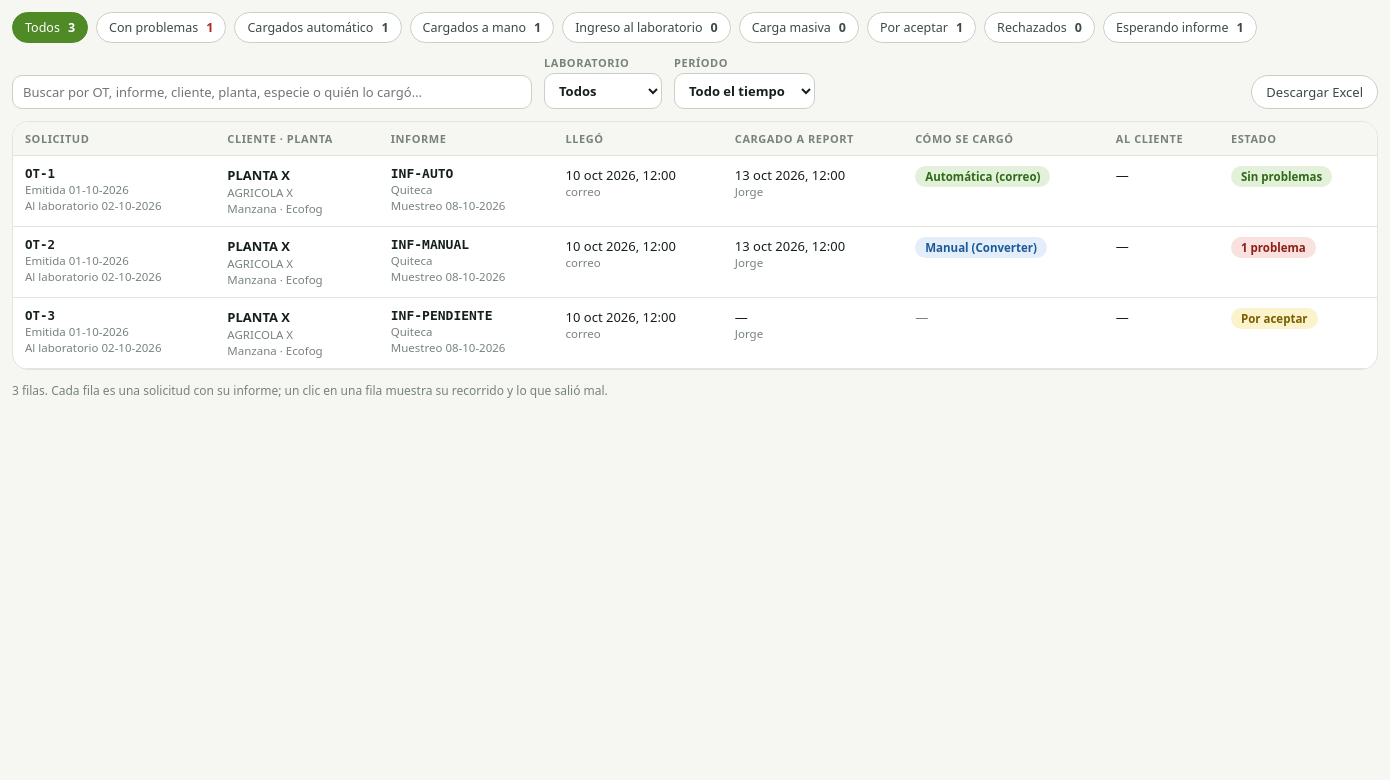
Test: RegistroInformes › un clic en la fila muestra lo que salió mal y el recorrido
This screenshot has width=1390, height=780.
Expected: the text "INF-MANUAL" is shown, [391, 237, 469, 252]
Step 1. Click the button with aria-label "Ver el detalle de INF-MANUAL" → (93,260), box [25, 237, 162, 284]
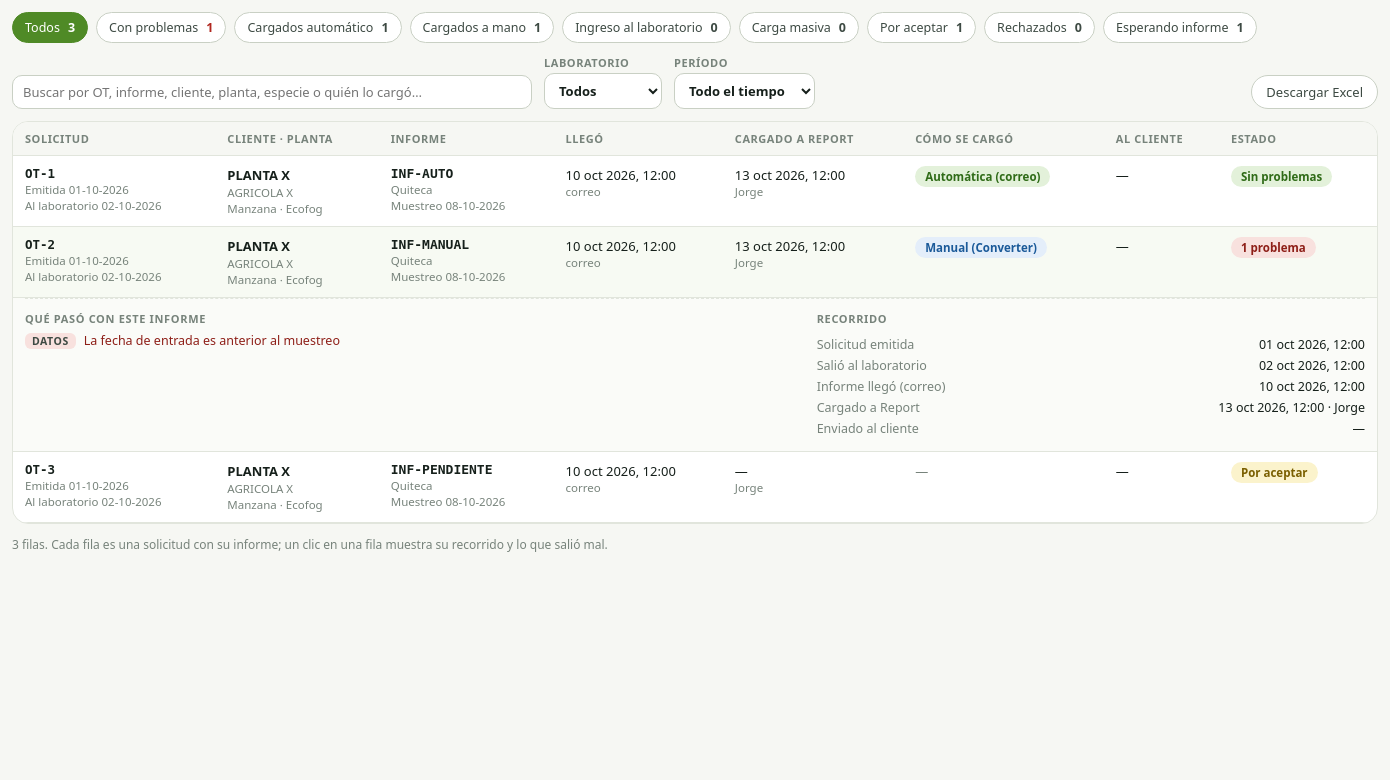
Expected: the list item "La fecha de entrada es anterior al muestreo" is shown, [84, 332, 340, 349]
Expected: the heading "Recorrido" is shown, [817, 311, 887, 326]
